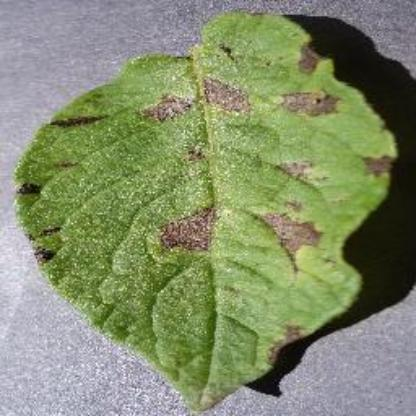Early-Blight: (15, 11, 400, 409)
